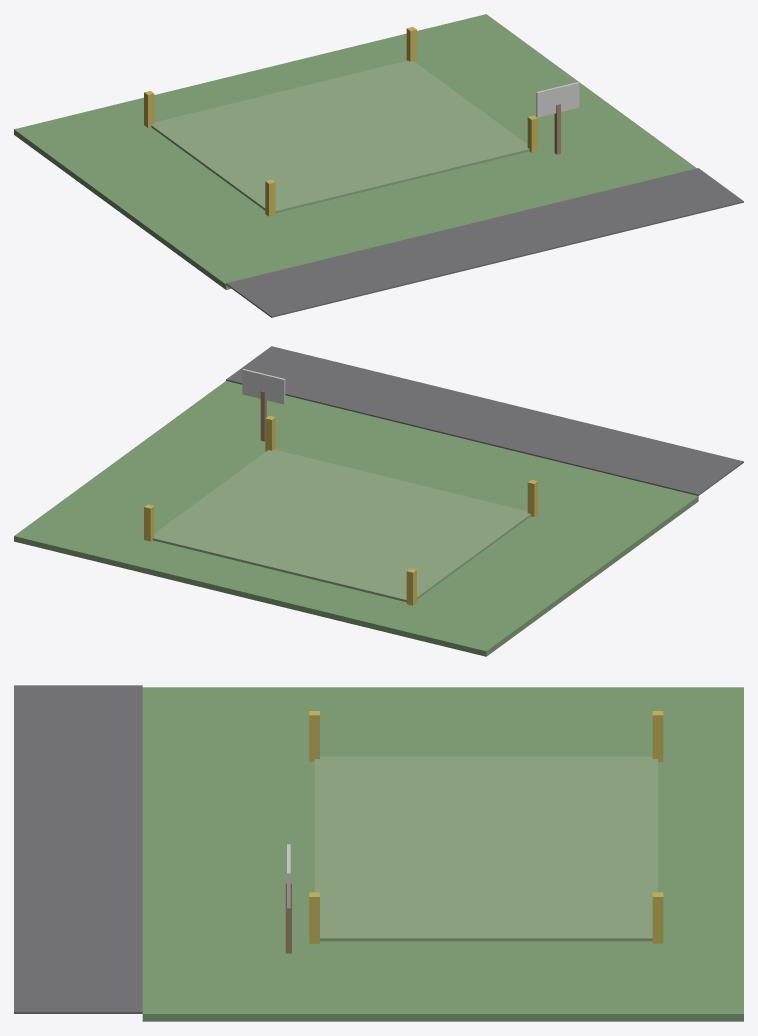
The model's file is terreno.glb.
3 views of the same model, one above another, from view 1: azimuth 30°, elevation 25°; view 2: azimuth 150°, elevation 25°; view 3: azimuth 270°, elevation 25° (orthographic). The views are drawn at different scales.
Parts seen in each view (by area): view 1: geometry_0; view 2: geometry_0; view 3: geometry_0.
Part boxes in pixels (x1,y1,x2,y2): geometry_0: (14,14,743,317); geometry_0: (14,346,743,656); geometry_0: (14,685,743,1021).
Size of the model in its own units: 18 by 2.6 by 17.
